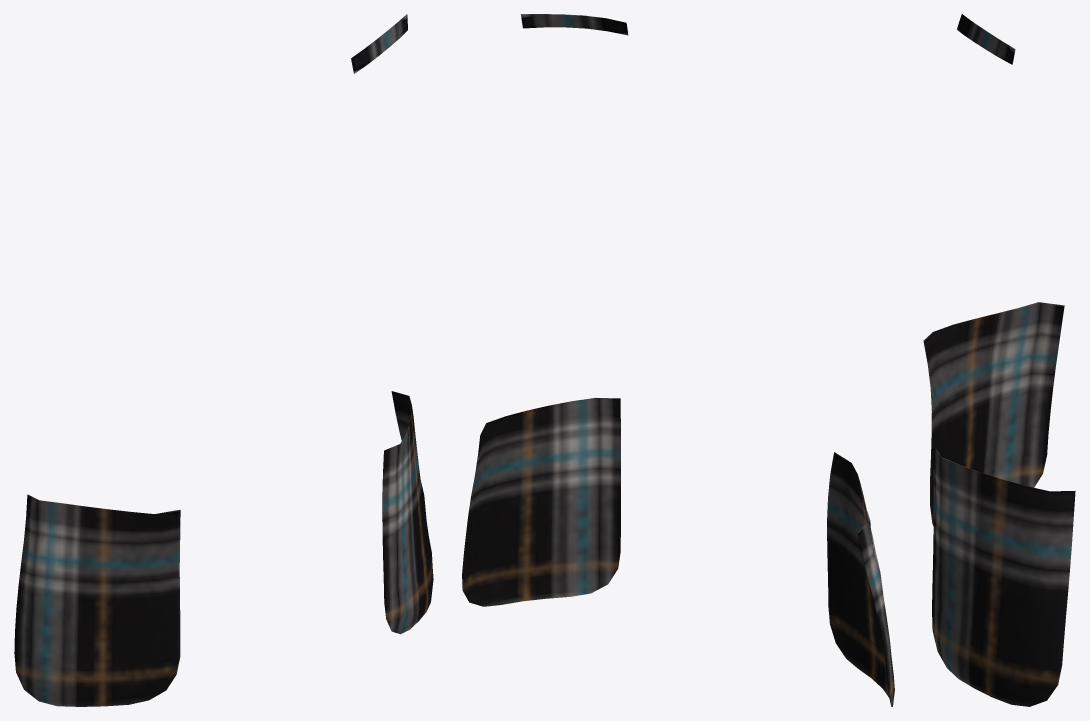
Rendered from patchpocketsb.glb.
3 views of the same model, side by side, from view 1: azimuth 30°, elevation 25°; view 2: azimuth 150°, elevation 25°; view 3: azimuth 270°, elevation 25° (orthographic). The views are drawn at different scales.
Parts seen in each view (by area): view 1: pocket (×3); view 2: pocket (×3); view 3: pocket (×3).
Boxes of the visible parts, x1,y1,x2,y2 form: pocket (×3): (14, 14, 433, 706); pocket (×3): (462, 14, 894, 706); pocket (×3): (923, 14, 1075, 706).
Size of the model in its own units: 371 by 510 by 108.
3 materials, 3 textured.
